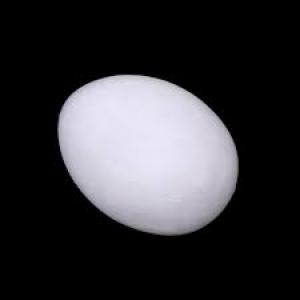Egg: (57, 74, 240, 236)
